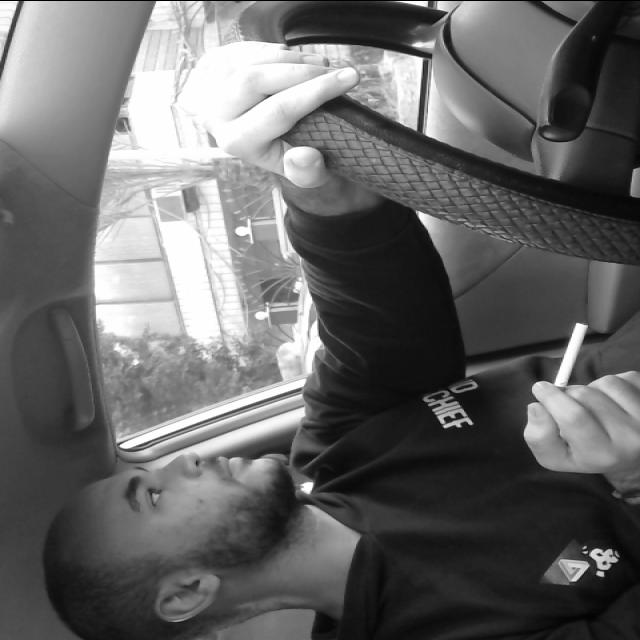smoking: (538, 312, 596, 418)
